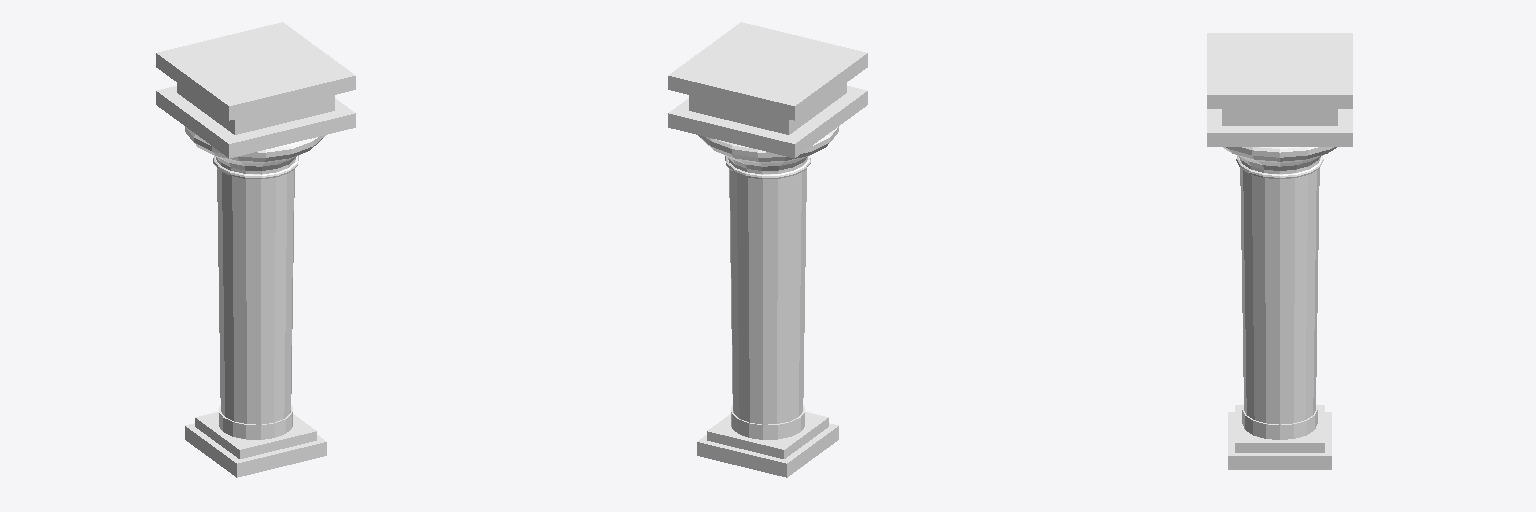
The model's file is MinoanColumnB_Low.obj.
3 views of the same model, side by side, from view 1: azimuth 30°, elevation 25°; view 2: azimuth 150°, elevation 25°; view 3: azimuth 270°, elevation 25° (orthographic).
Visible parts, largest first — view 1: column, abacus, plinth; view 2: column, abacus, plinth; view 3: column, abacus, plinth.
Part boxes in pixels (bbox=[...]): column: bbox=[185, 127, 325, 439]; abacus: bbox=[156, 22, 355, 158]; plinth: bbox=[185, 412, 326, 477]; column: bbox=[698, 127, 838, 439]; abacus: bbox=[668, 22, 867, 158]; plinth: bbox=[697, 412, 838, 477]; column: bbox=[1223, 147, 1336, 439]; abacus: bbox=[1207, 33, 1352, 146]; plinth: bbox=[1228, 405, 1331, 469].
Bounding box in the file's own units: 113 × 327 × 113.